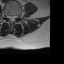CCS_normal: (11, 13, 13, 23)
LFS_normal: (15, 12, 18, 21)
LLS_normal: (13, 12, 15, 22)
RFS_normal: (6, 12, 8, 20)
RLS_normal: (8, 12, 10, 22)
